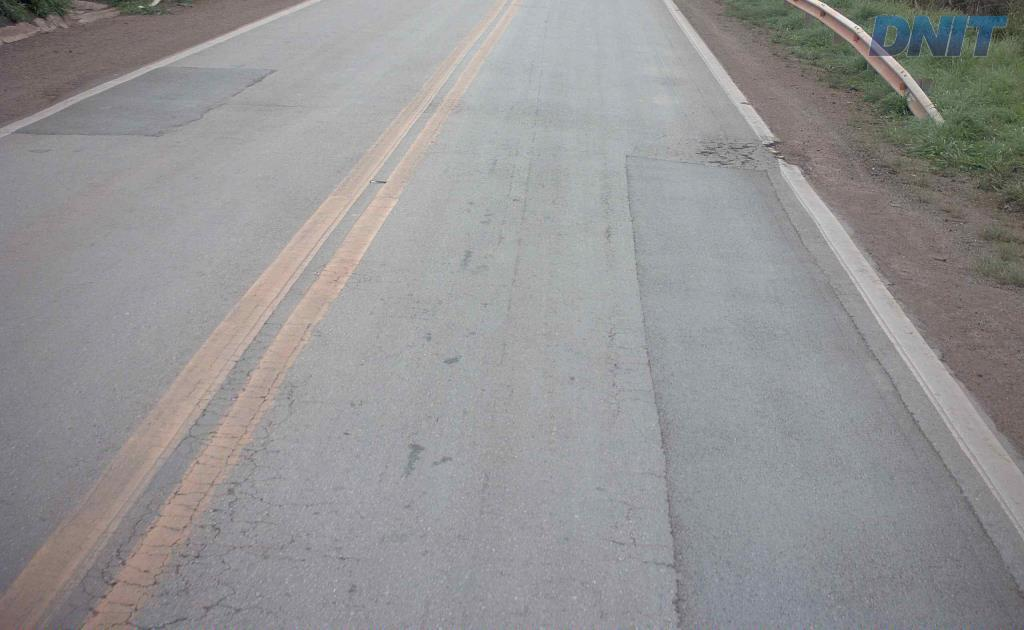crack: (695, 139, 752, 170)
